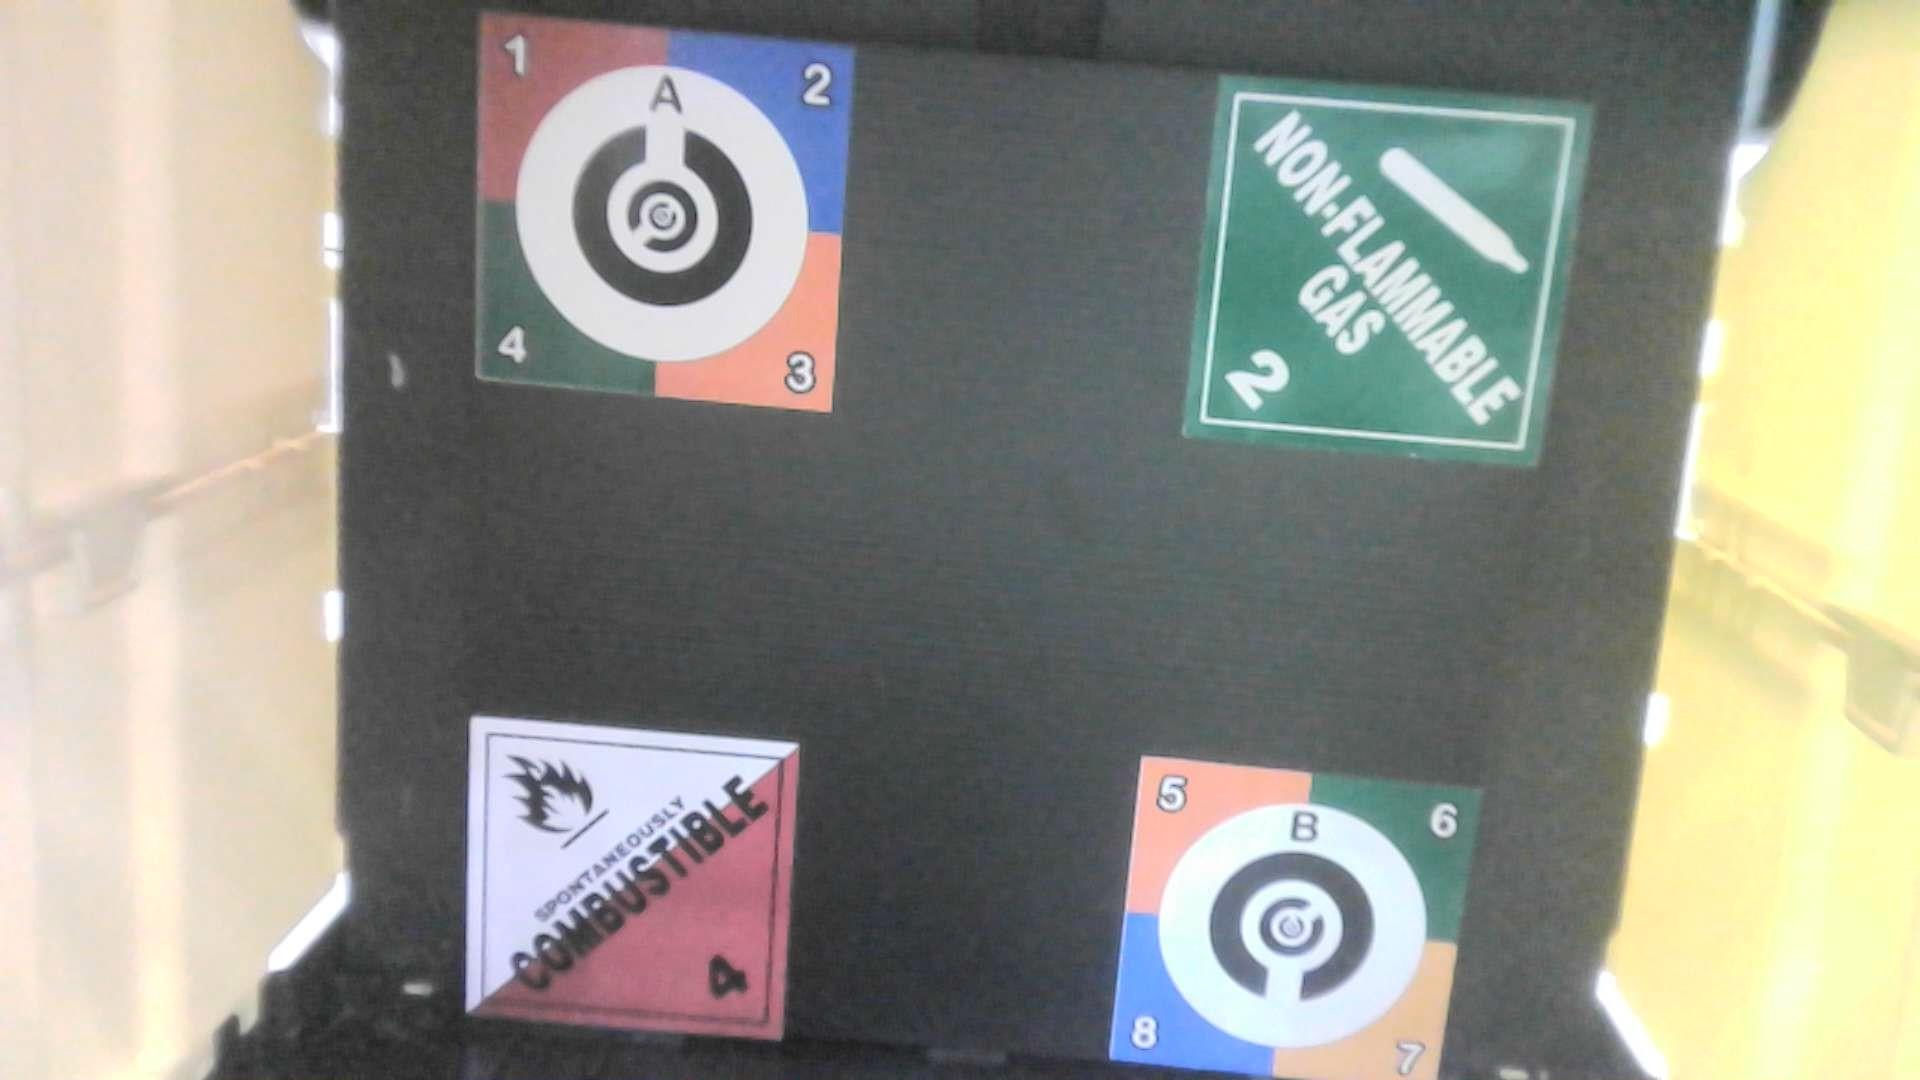non-flammable-gas: (1170, 61, 1611, 485)
spontaneously-combustible: (444, 699, 825, 1060)
